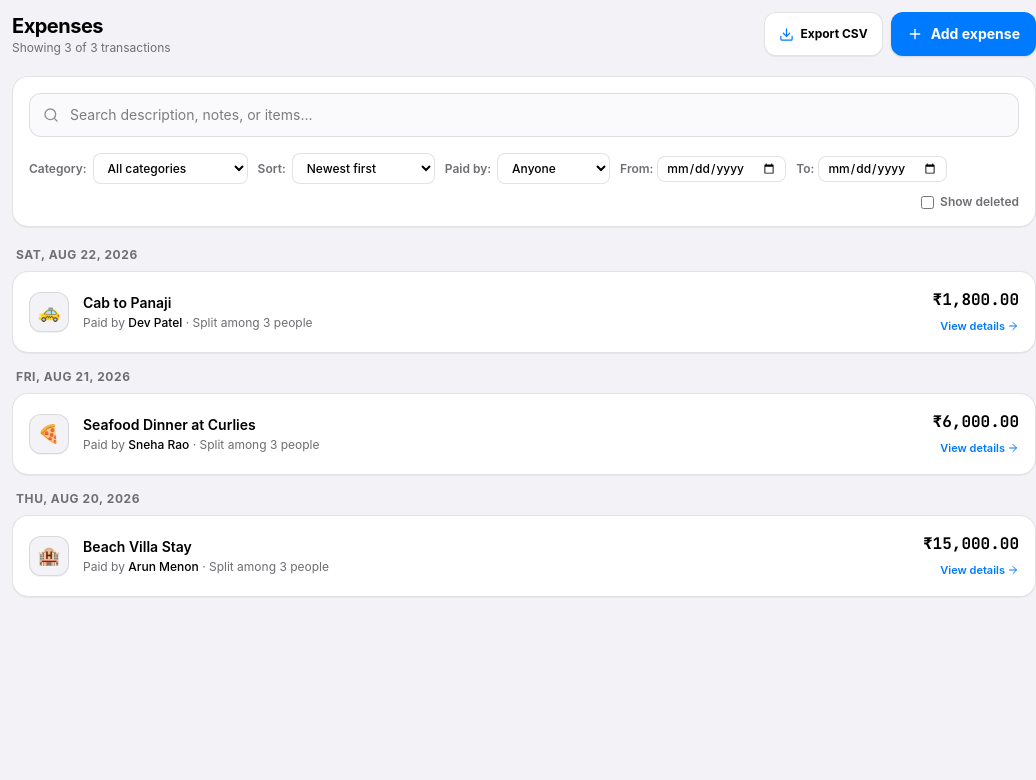
Test: Empirical Challenge Suite: Milestone 2 Feature Screens & Micro-interactions › ExpensesPage Filtering, Search & Micro-interactions › filters expenses by payer dropdown selection
The width and height of the screenshot is (1036, 780).
Select "Sneha Rao" in the dropdown labelled "Paid by:": (554, 168) top-left (497, 153), bottom-right (610, 184)
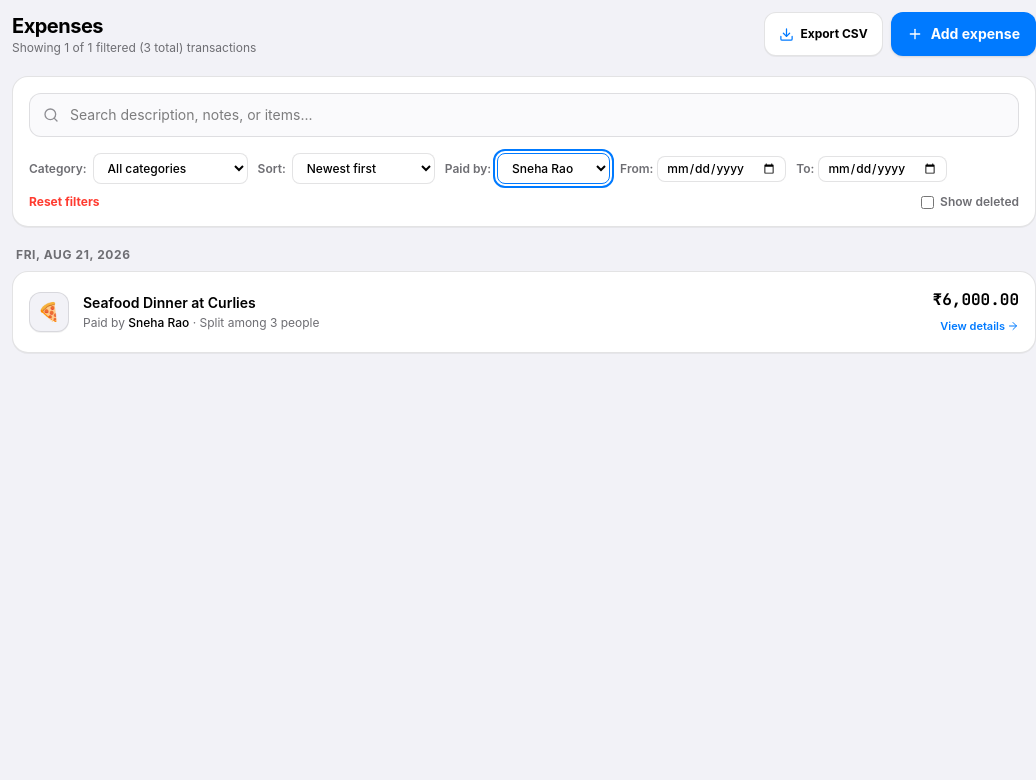
Expected: the text "Seafood Dinner at Curlies" is shown, top-left (83, 293), bottom-right (256, 313)
Result: the link "Beach Villa Stay" is gone
Result: the link "Cab to Panaji" is gone
